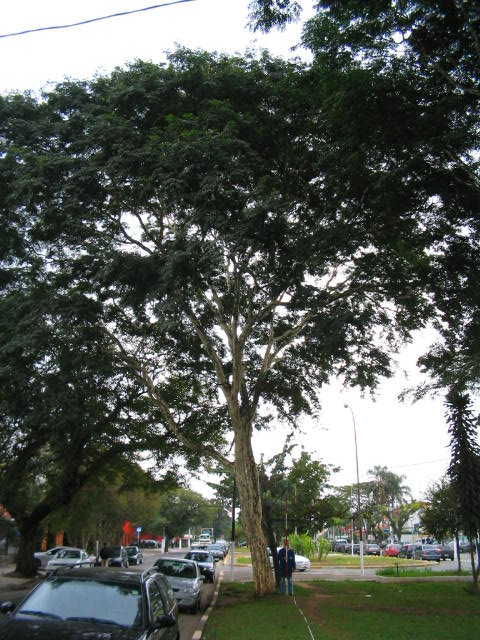crown: (1, 38, 472, 413)
stem: (223, 470, 280, 597), (8, 527, 48, 572)
stick: (278, 497, 293, 600)
tree: (1, 38, 473, 599), (1, 317, 225, 574)
